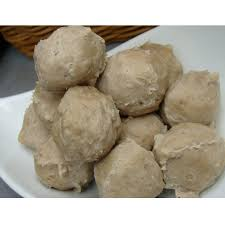bakso: (22, 39, 215, 194)
